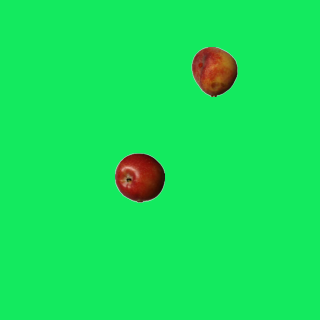Apple Braeburn: (114, 152, 164, 202)
Peach: (189, 46, 239, 96)
